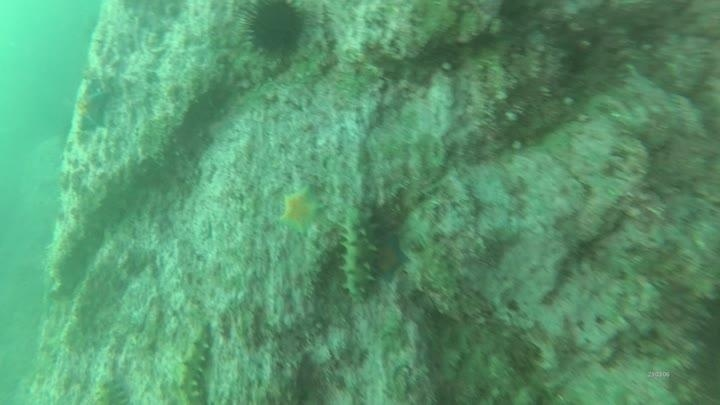echinus: (239, 1, 312, 60)
holothurian: (336, 202, 381, 303), (172, 319, 216, 404), (92, 371, 133, 405)
starfish: (275, 182, 326, 237), (70, 76, 115, 135), (371, 232, 412, 283)
